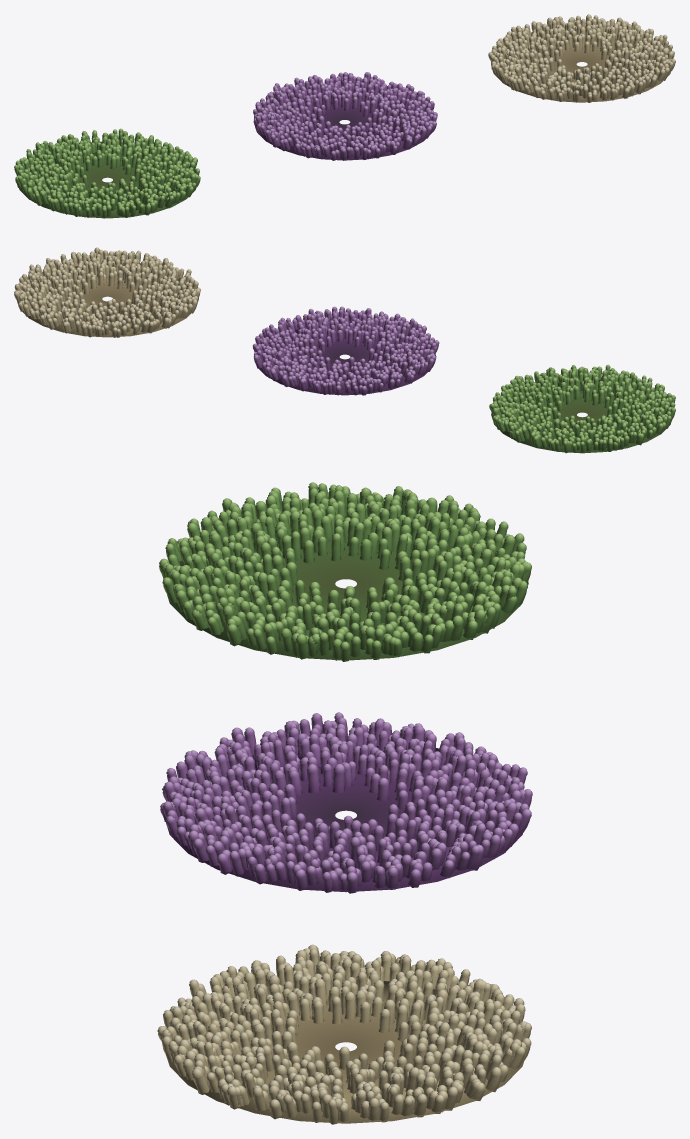
3 renders of one model, top to bottom at view 1: azimuth 30°, elevation 25°; view 2: azimuth 150°, elevation 25°; view 3: azimuth 270°, elevation 25°, orthographic. The views are drawn at different scales.
Parts seen in each view (by area): view 1: carpet-anemone, carpet-anemone.002, carpet-anemone.001; view 2: carpet-anemone.002, carpet-anemone.001, carpet-anemone; view 3: carpet-anemone, carpet-anemone.001, carpet-anemone.002.
Part boxes in pixels (bbox=[...]): carpet-anemone: bbox=[14, 128, 200, 218]; carpet-anemone.002: bbox=[488, 14, 675, 102]; carpet-anemone.001: bbox=[253, 72, 437, 160]; carpet-anemone.002: bbox=[14, 247, 200, 337]; carpet-anemone.001: bbox=[252, 306, 439, 395]; carpet-anemone: bbox=[489, 364, 675, 453]; carpet-anemone: bbox=[159, 482, 531, 661]; carpet-anemone.001: bbox=[160, 712, 532, 893]; carpet-anemone.002: bbox=[157, 944, 531, 1124].
Bounding box in the file's own units: 8.05 × 0.2429 × 2.06.
